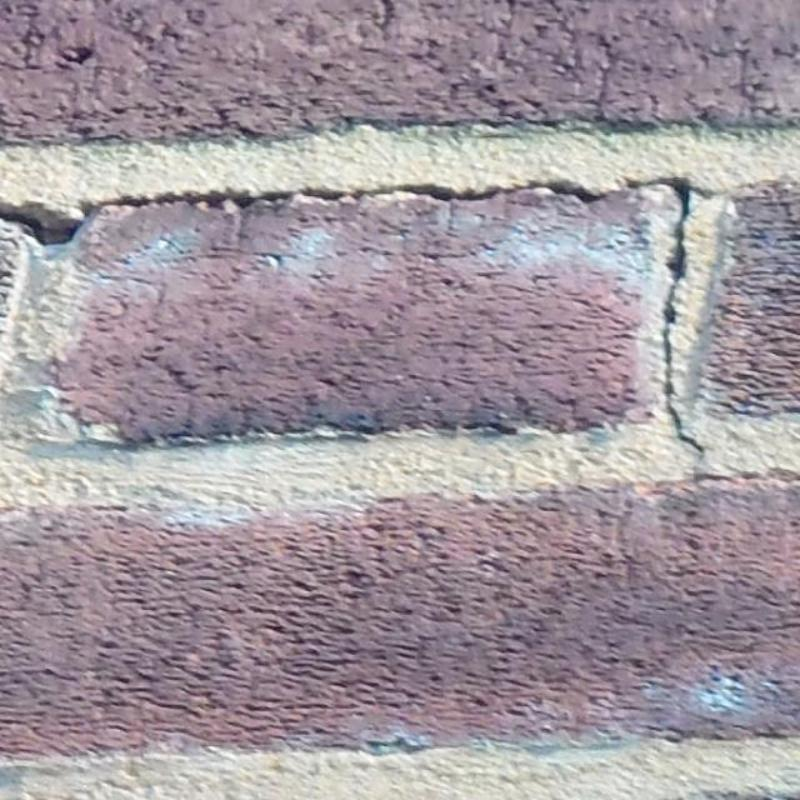pothole: (1, 180, 705, 473)
